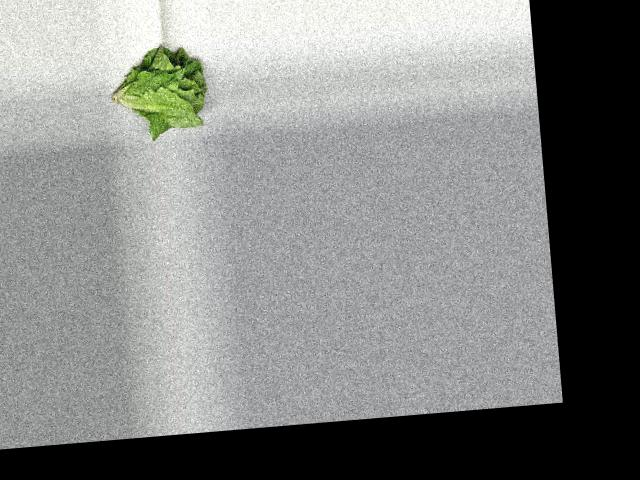lettuce: (100, 37, 214, 141)
